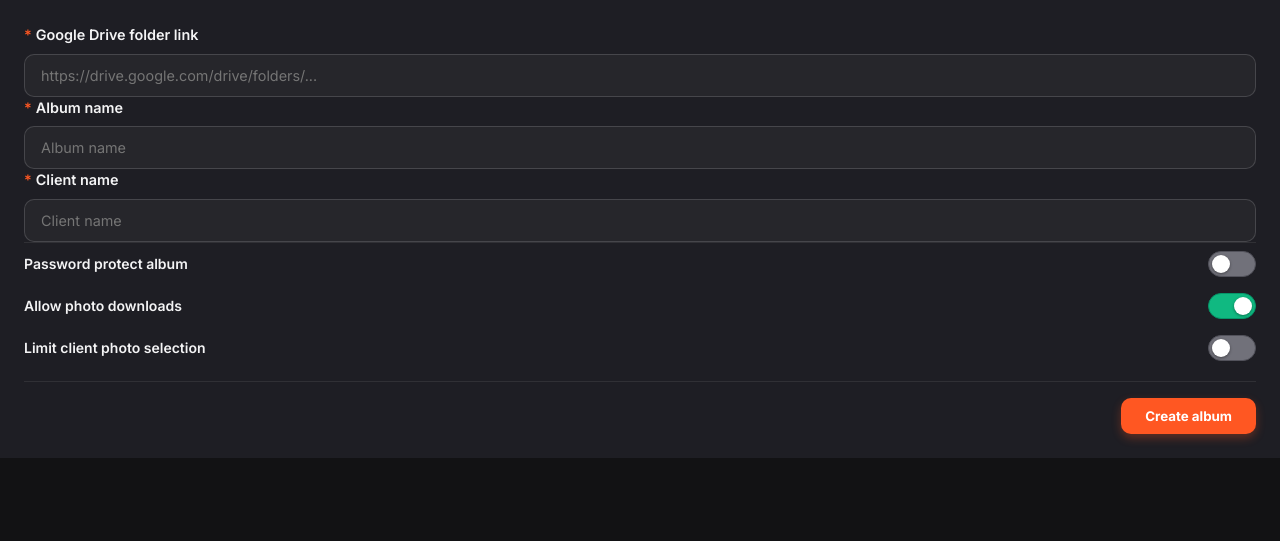
it: CreateAlbumForm › shows an error message when the request fails
In the field labelled "Google Drive folder link": (640, 75) [24,54,1256,97], type "https://drive.google.com/drive/folders/456DEF"
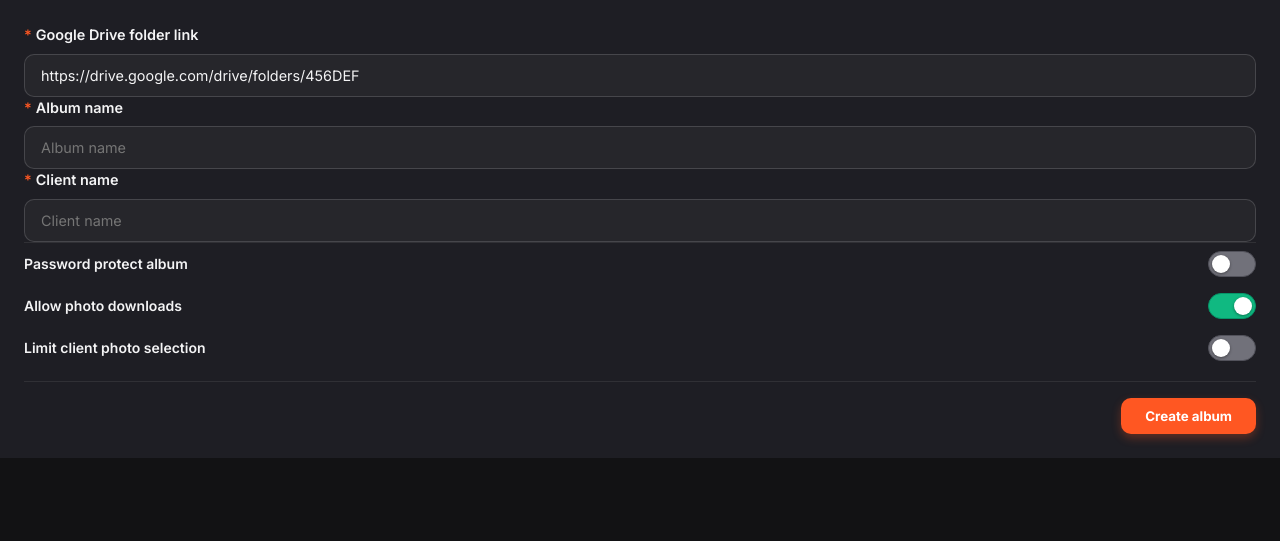
Click the button "Create album": (1189, 416) [1121,398,1256,434]
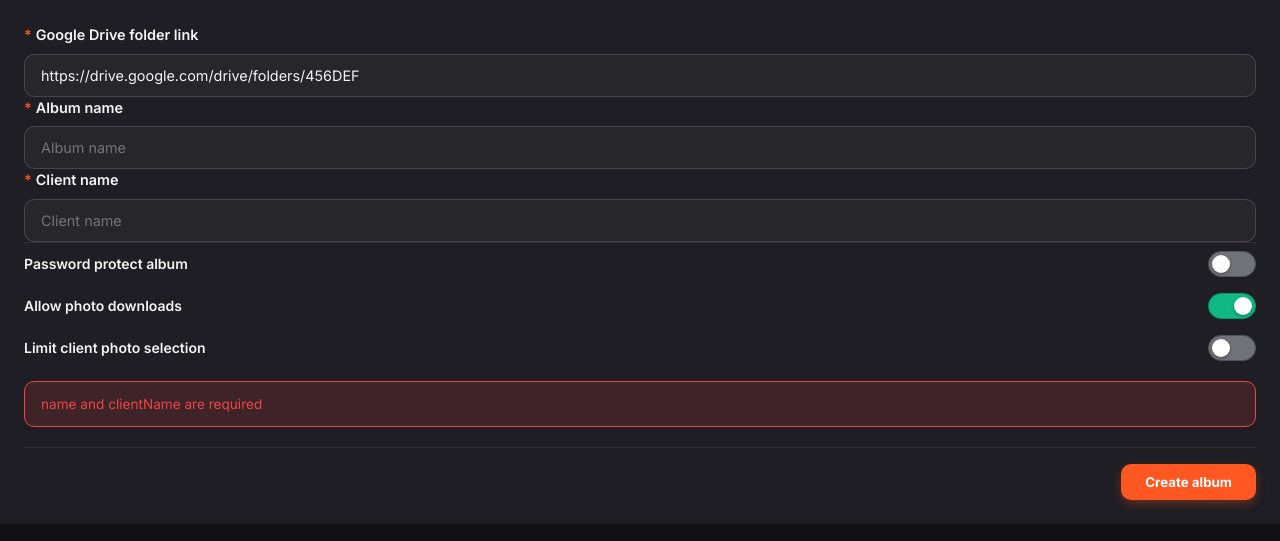
Result: the message reads "name and clientName are required" at [41,396,262,412]
